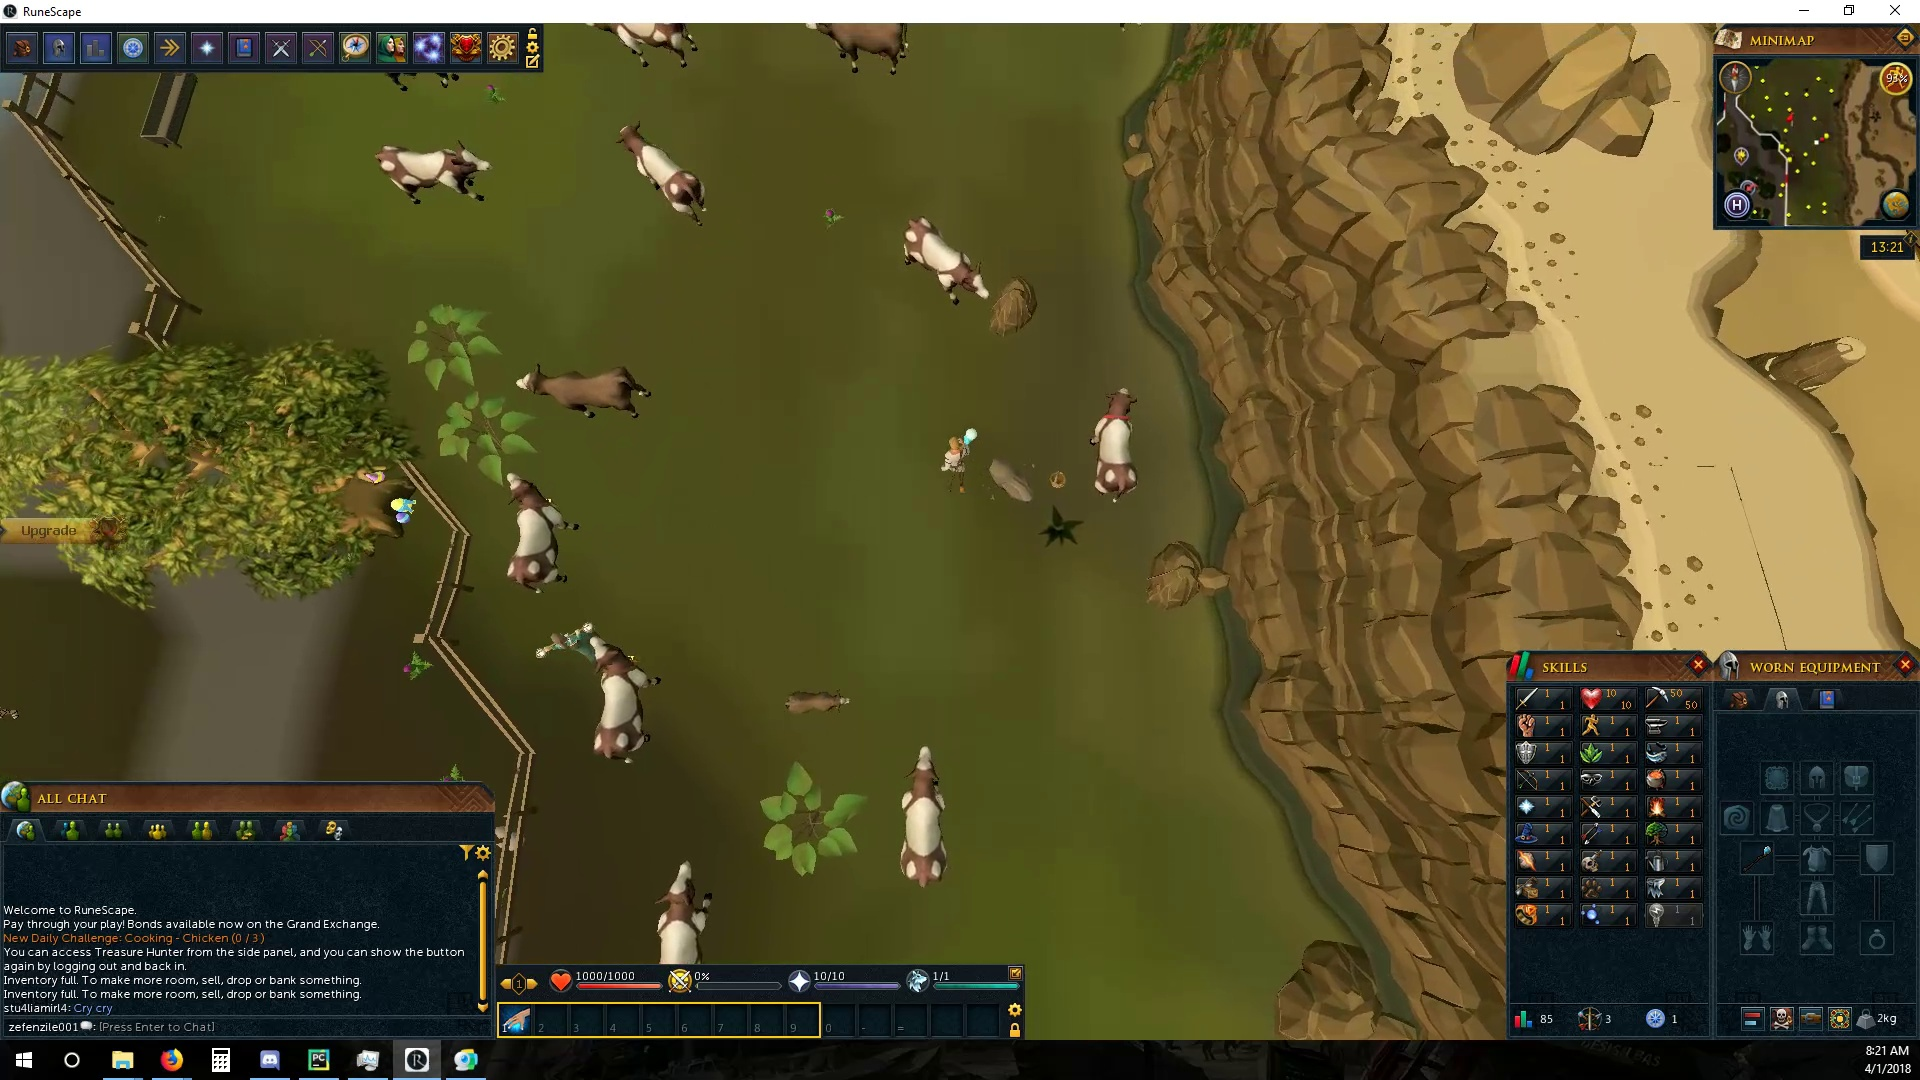calf: (777, 686, 855, 717)
cow: (615, 117, 708, 227), (501, 475, 585, 596), (584, 637, 661, 767), (897, 216, 996, 311), (510, 364, 655, 421), (375, 138, 491, 208), (898, 744, 949, 891), (1084, 386, 1143, 508), (649, 860, 716, 965), (806, 22, 913, 78), (582, 22, 700, 70)
